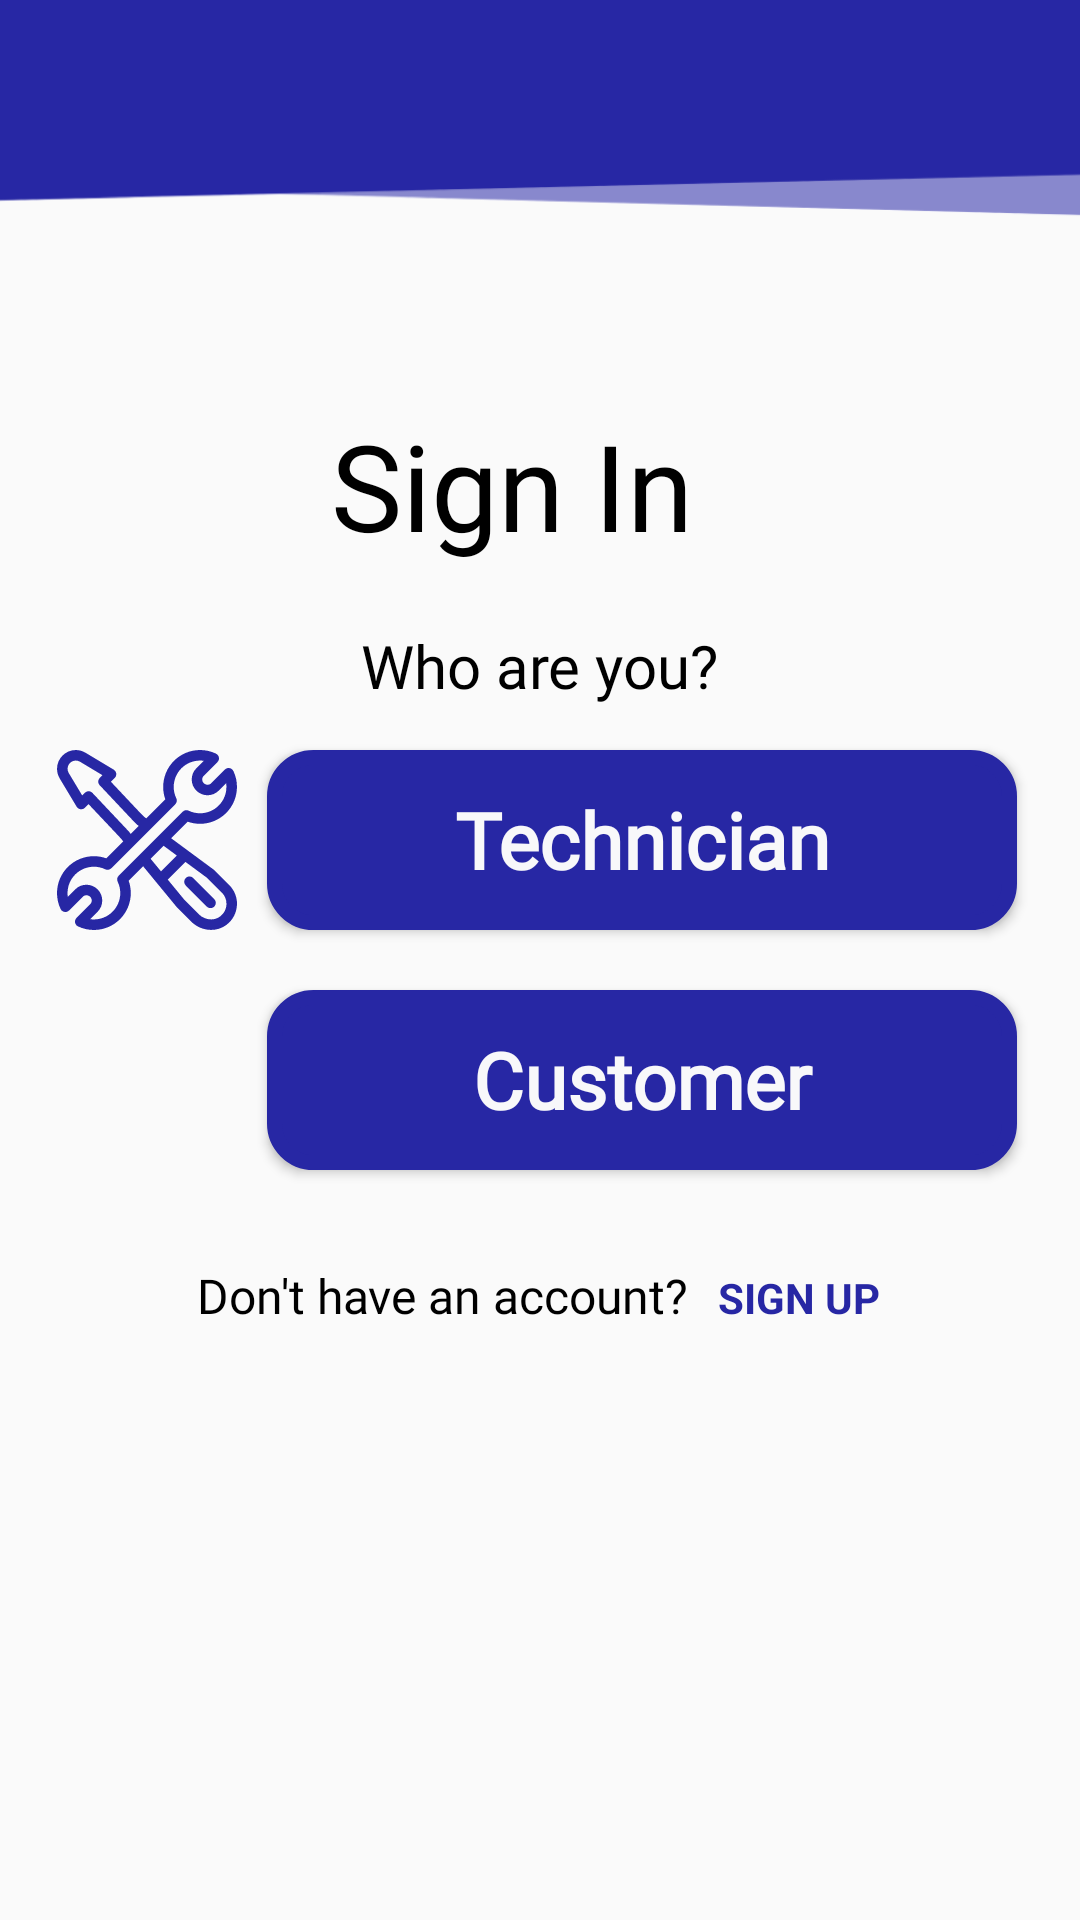

Icon bounding boxes for this 1080px×1920px phone screenshot, format (x1, y1, x2, y2):
fix: (57, 750, 237, 930)
